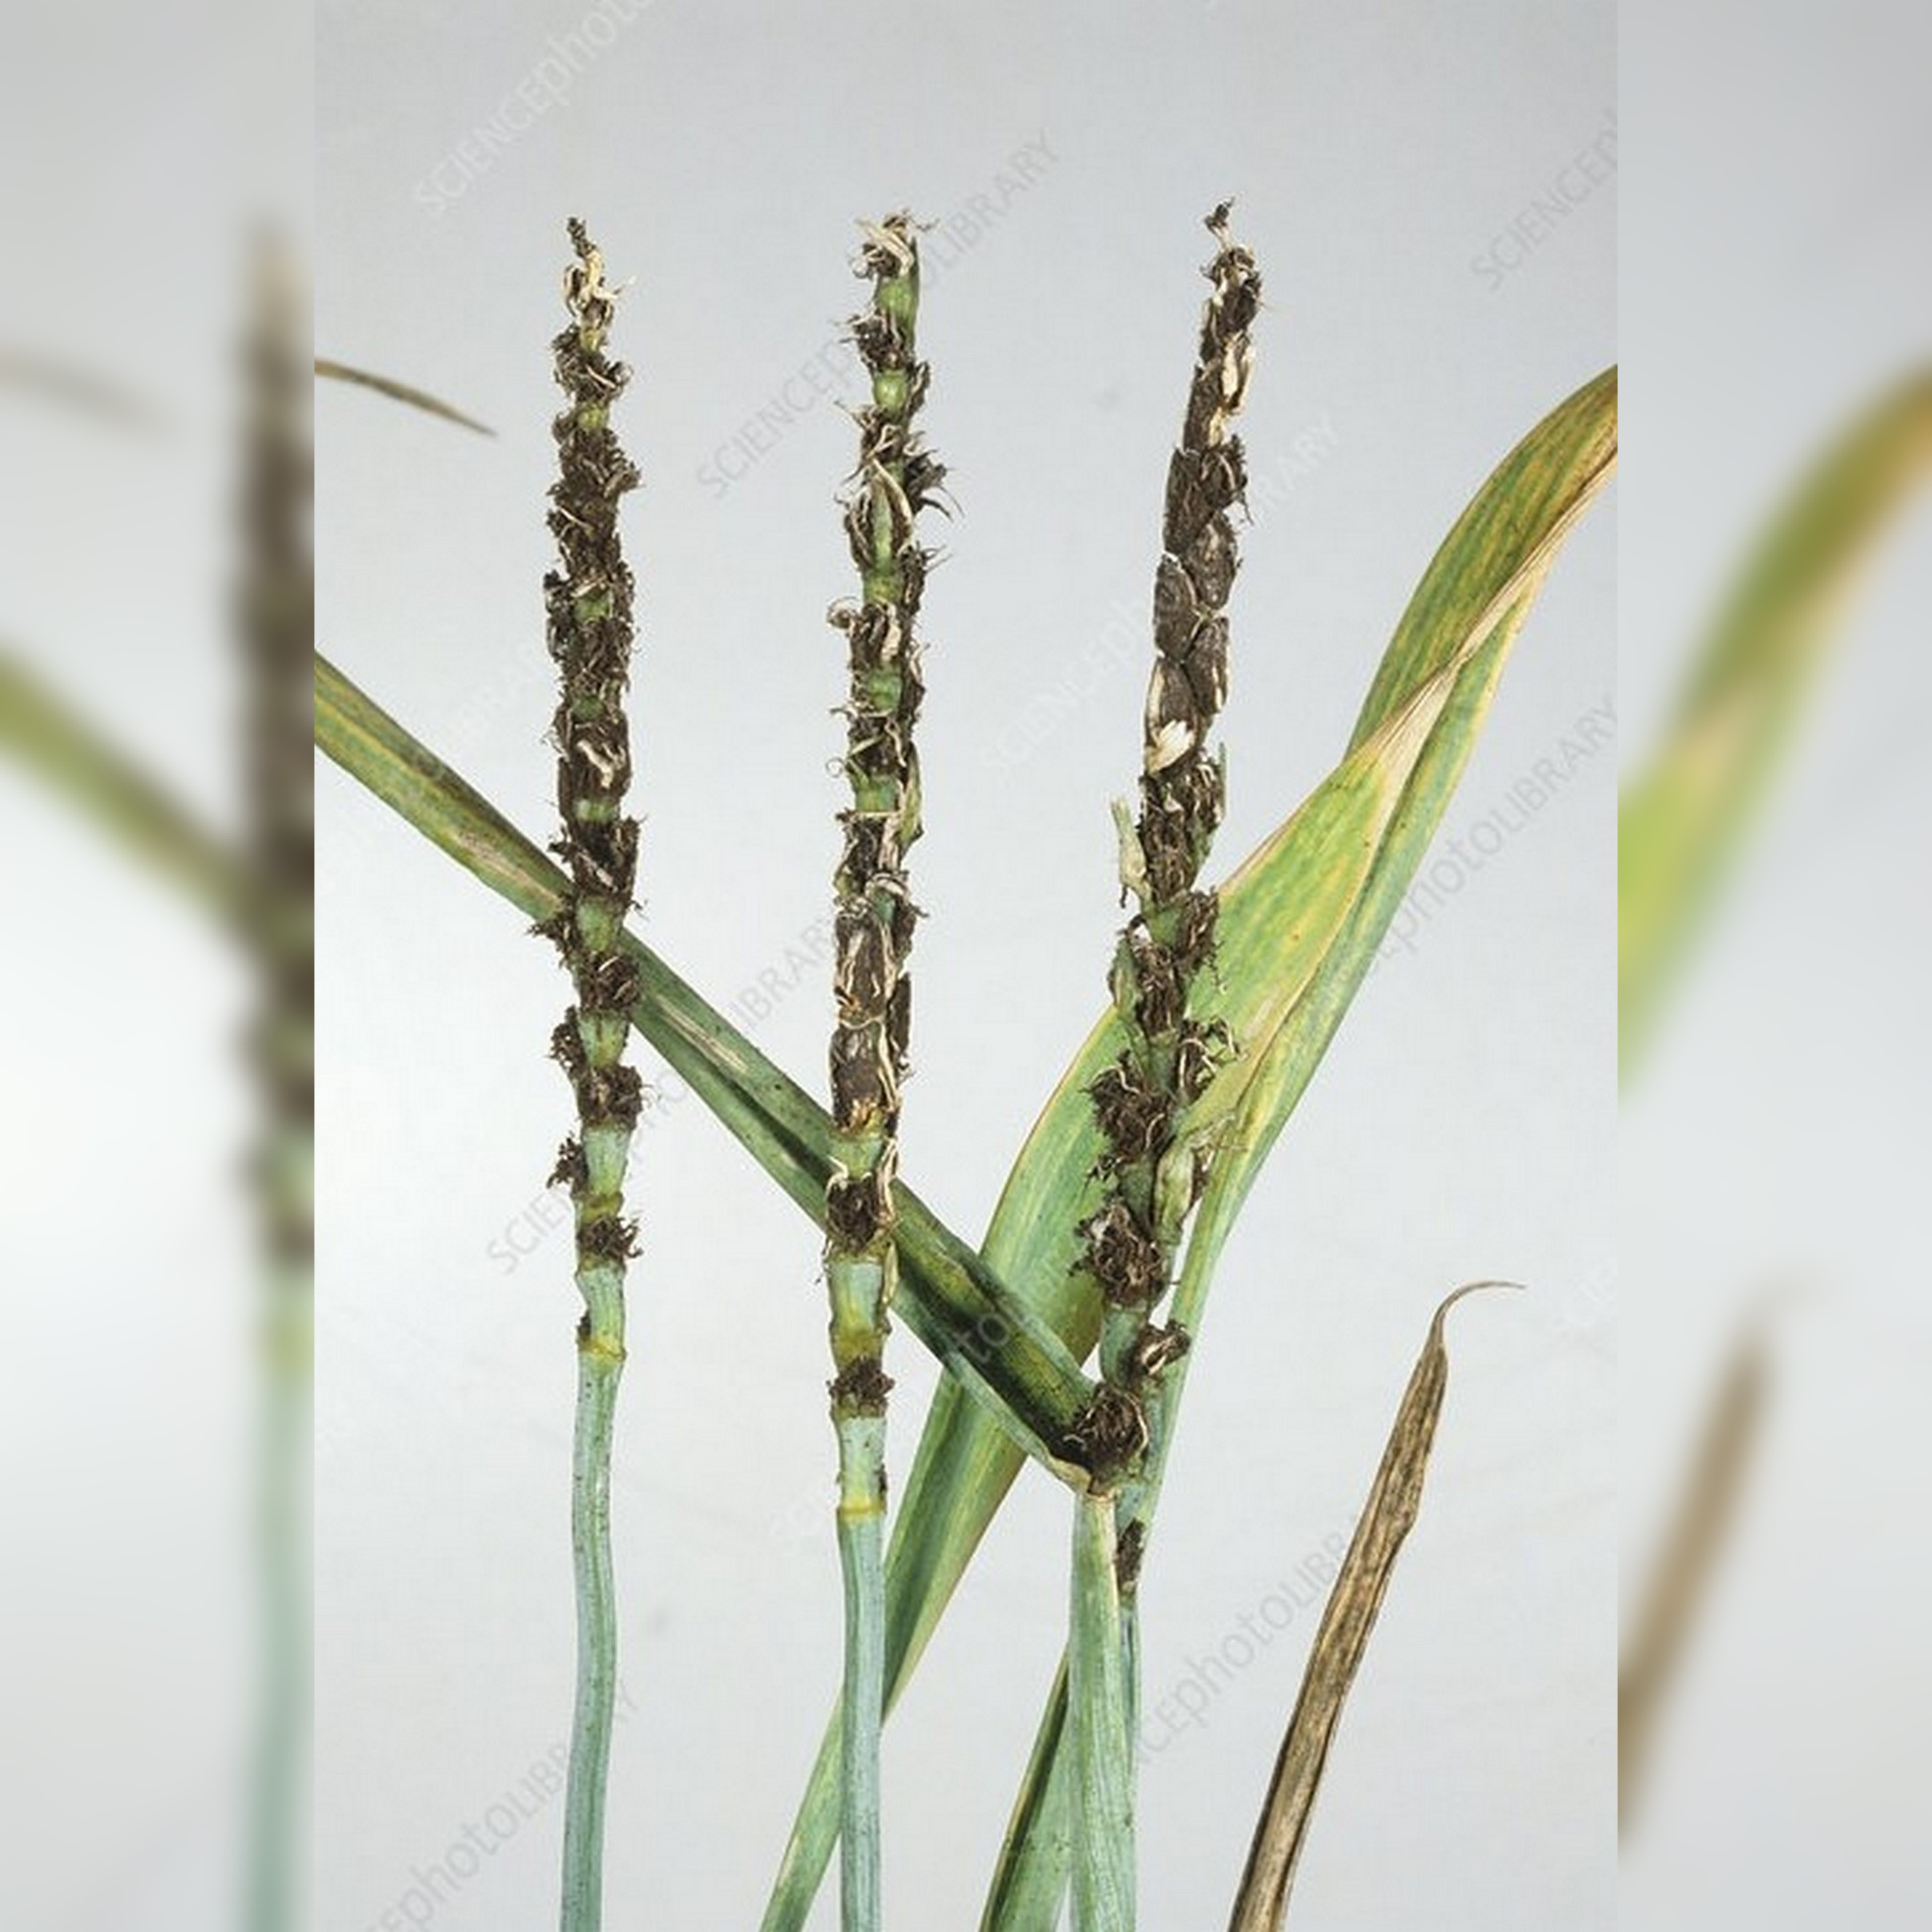Wheat Loose Smut: (485, 205, 1300, 1380)
